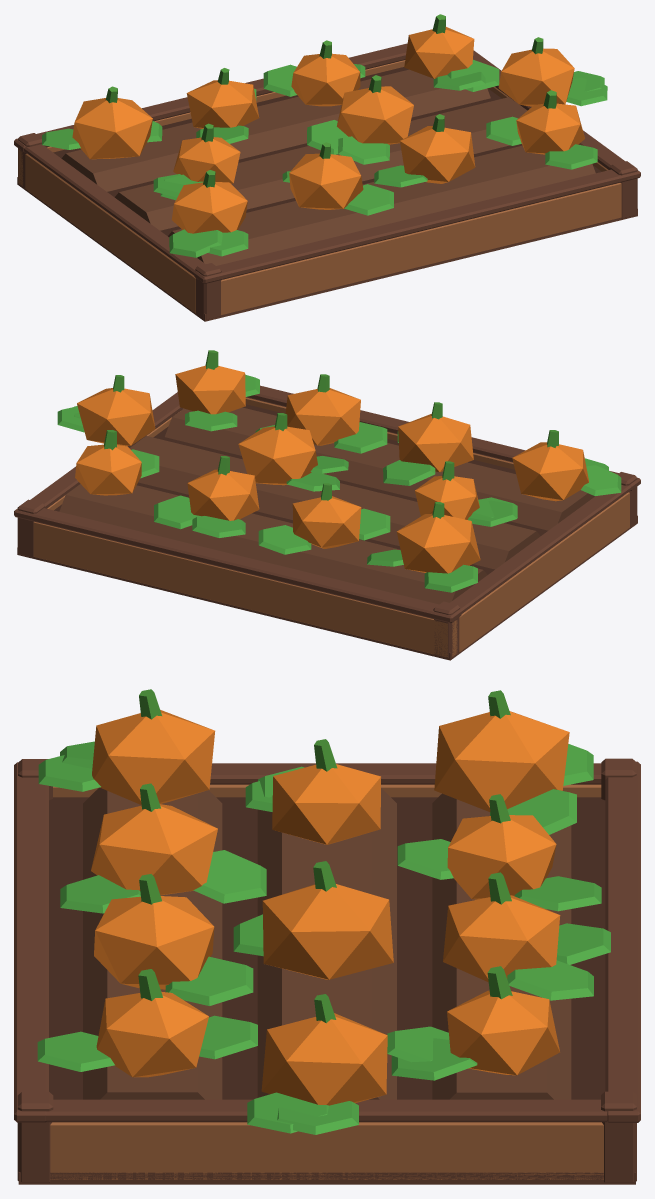
File: CropBed_Pumpkin.fbx
3 renders of one model, top to bottom at view 1: azimuth 30°, elevation 25°; view 2: azimuth 150°, elevation 25°; view 3: azimuth 270°, elevation 25°, orthographic. The views are drawn at different scales.
Visible parts, largest first — view 1: CropBed_Pumpkin; view 2: CropBed_Pumpkin; view 3: CropBed_Pumpkin.
Part boxes in pixels (left/top/right/bottom): CropBed_Pumpkin: left=14, top=14, right=640, bottom=321; CropBed_Pumpkin: left=14, top=350, right=640, bottom=660; CropBed_Pumpkin: left=14, top=689, right=640, bottom=1184.
Bounding box in the file's own units: 4.62 × 1.01 × 3.05.
